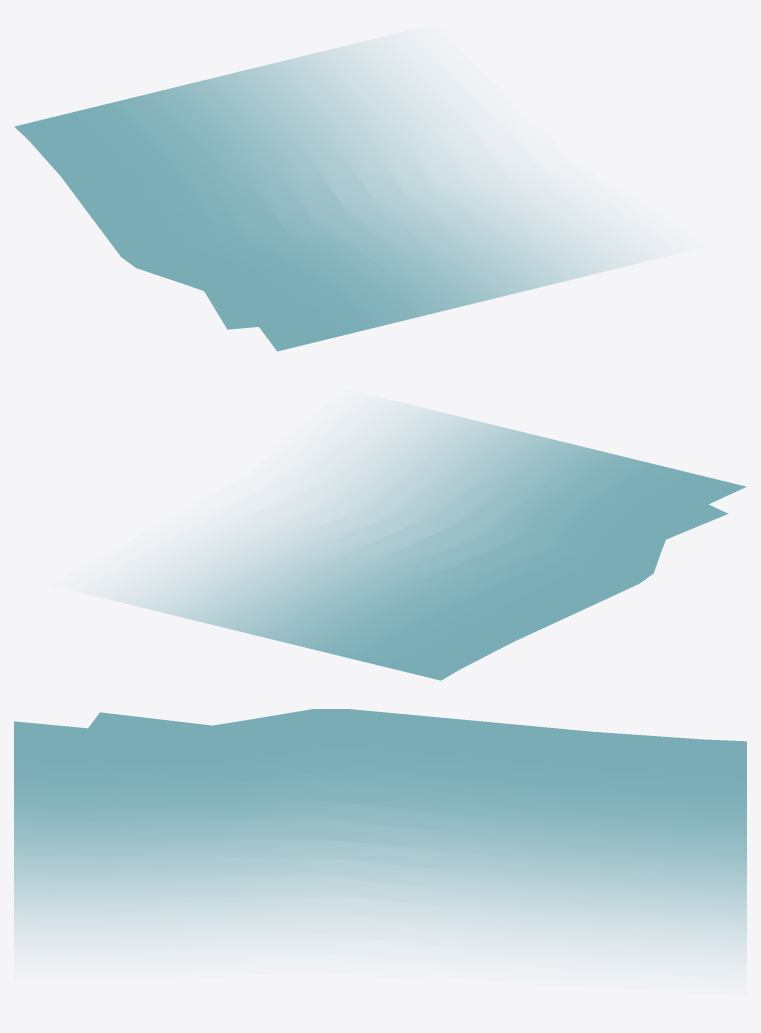
3 views of the same model, one above another, from view 1: azimuth 30°, elevation 25°; view 2: azimuth 150°, elevation 25°; view 3: azimuth 270°, elevation 25° (orthographic). The views are drawn at different scales.
Parts seen in each view (by area): view 1: city; view 2: city; view 3: city.
Boxes of the visible parts, x1=… form: city: x1=14, y1=39, x2=643, y2=351; city: x1=106, y1=404, x2=746, y2=680; city: x1=14, y1=709, x2=746, y2=958.
Bounding box in the file's own units: 500 × 0 × 500.
